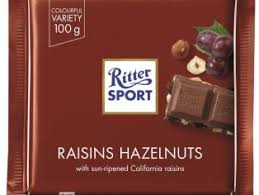Chocolate: (6, 1, 258, 194)
